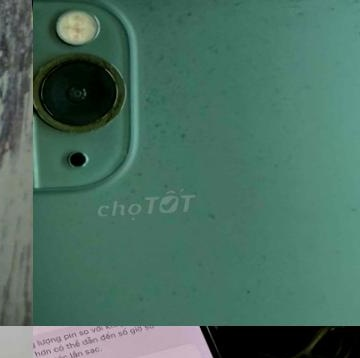scratch: (115, 0, 360, 140), (33, 0, 119, 187), (200, 187, 228, 239), (165, 272, 196, 309), (241, 280, 259, 303)
